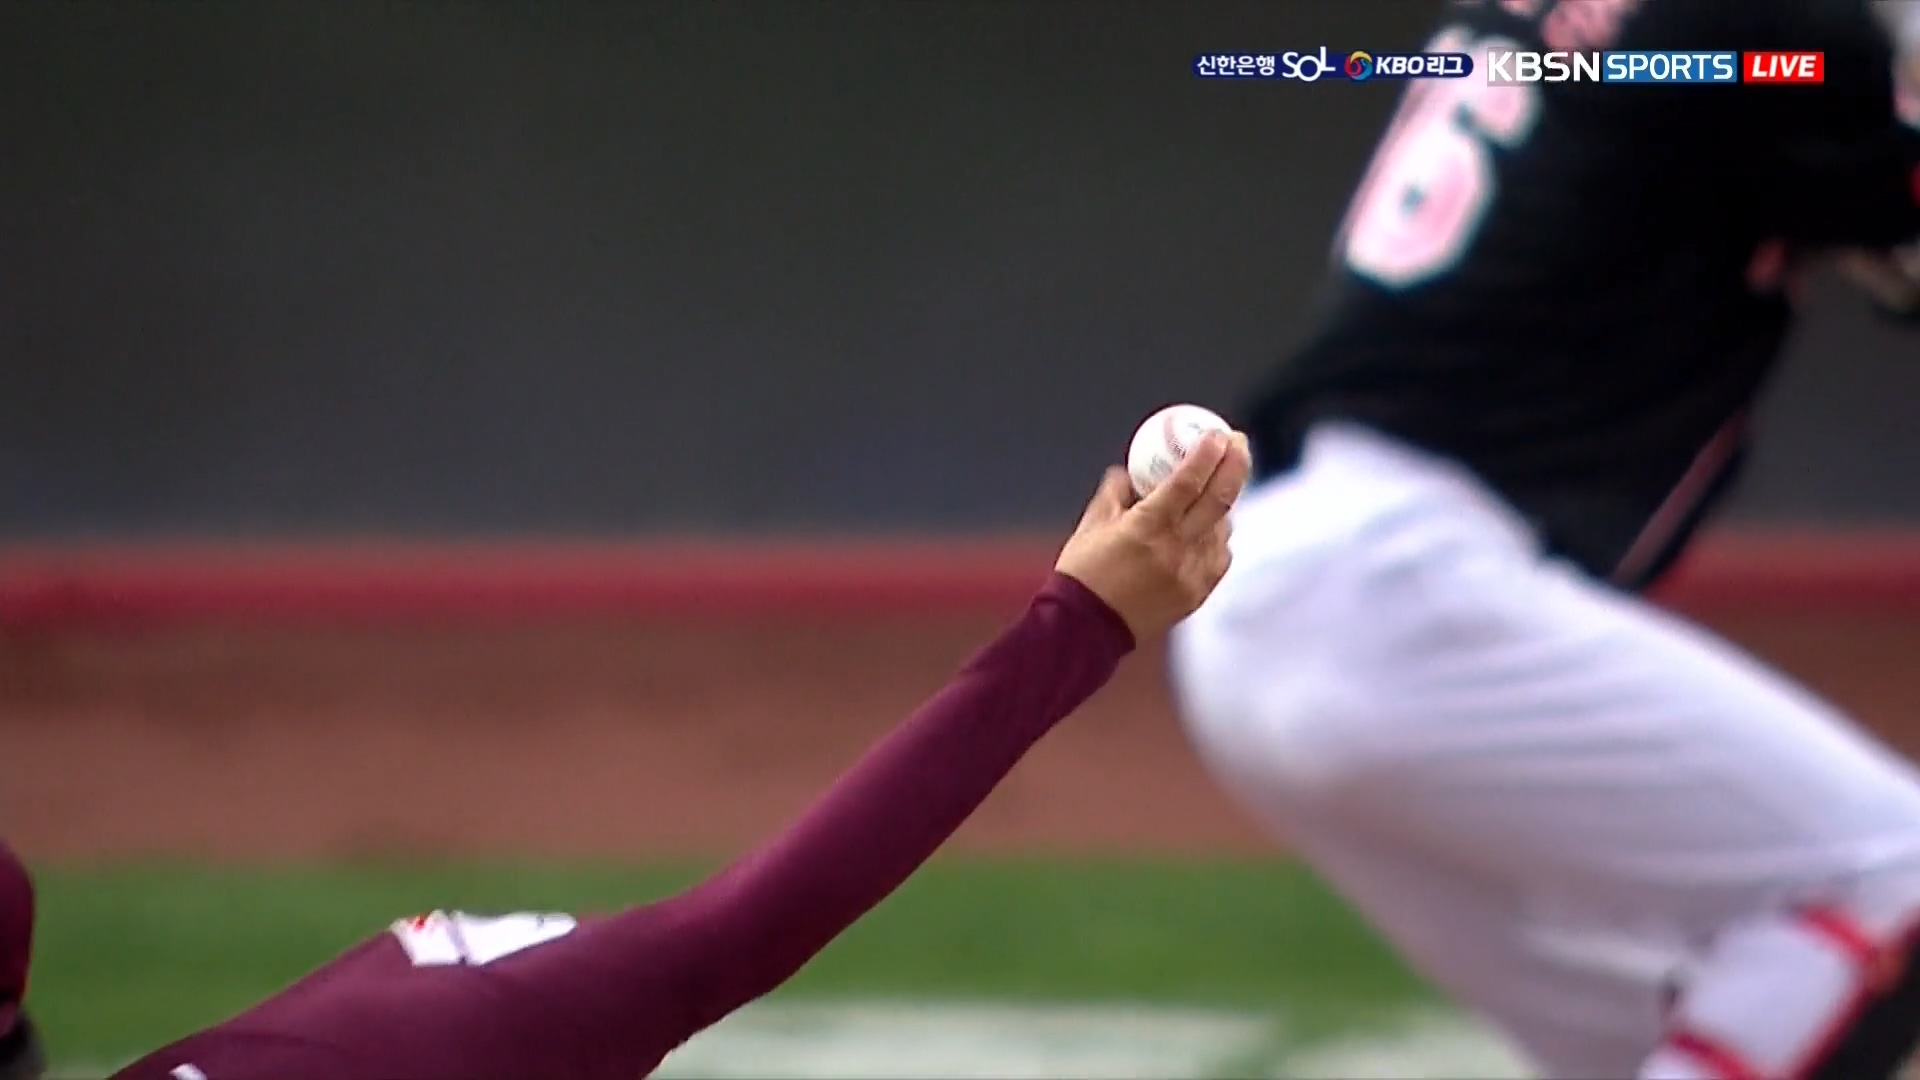zoomin_hand: (709, 388, 1269, 971)
